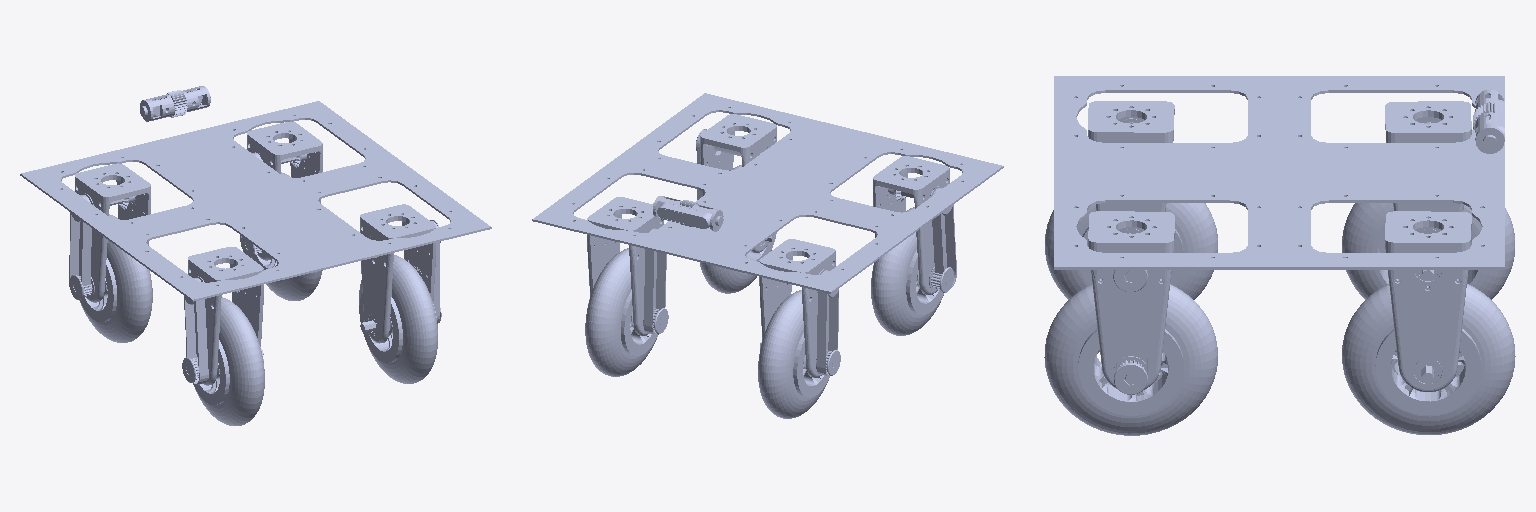
The robot description file, URDF, robot "Assem1.SLDASM":
<?xml version="1.0" encoding="utf-8"?>
<!-- This URDF was automatically created by SolidWorks to URDF Exporter! Originally created by [author] ([email redacted]) 
     Commit Version: 1.6.0-4-g7f85cfe  Build Version: 1.6.7995.38578
     For more information, please see http://wiki.ros.org/sw_urdf_exporter -->
<robot
  name="Assem1.SLDASM">
  <link
    name="base_link">
    <inertial>
      <origin
        xyz="-1.80122982527309E-05 0.00268113709179614 0.0437561412092237"
        rpy="0 0 0" />
      <mass
        value="5.83594079476047" />
      <inertia
        ixx="0.0262320570286846"
        ixy="2.82877643144792E-06"
        ixz="1.51090613026226E-09"
        iyy="0.0221066318668786"
        iyz="1.64817571323087E-09"
        izz="0.0463251880864419" />
    </inertial>
    <visual>
      <origin
        xyz="0 0 0"
        rpy="0 0 0" />
      <geometry>
        <mesh
          filename="package://Assem1.SLDASM/meshes/base_link.STL" />
      </geometry>
      <material
        name="">
        <color
          rgba="0.792156862745098 0.819607843137255 0.933333333333333 1" />
      </material>
    </visual>
    <collision>
      <origin
        xyz="0 0 0"
        rpy="0 0 0" />
      <geometry>
        <mesh
          filename="package://Assem1.SLDASM/meshes/base_link.STL" />
      </geometry>
    </collision>
  </link>
  <link
    name="Revolve1">
    <inertial>
      <origin
        xyz="-0.00203157253473932 -3.3257002236553E-06 -0.146515511784745"
        rpy="0 0 0" />
      <mass
        value="0.26996802034521" />
      <inertia
        ixx="0.000817081008544826"
        ixy="1.43755452488312E-06"
        ixz="5.94712654175265E-08"
        iyy="0.000962909407158132"
        iyz="1.19067342375248E-06"
        izz="0.000432508914878457" />
    </inertial>
    <visual>
      <origin
        xyz="0 0 0"
        rpy="0 0 0" />
      <geometry>
        <mesh
          filename="package://Assem1.SLDASM/meshes/Revolve1.STL" />
      </geometry>
      <material
        name="">
        <color
          rgba="0.792156862745098 0.819607843137255 0.933333333333333 1" />
      </material>
    </visual>
    <collision>
      <origin
        xyz="0 0 0"
        rpy="0 0 0" />
      <geometry>
        <mesh
          filename="package://Assem1.SLDASM/meshes/Revolve1.STL" />
      </geometry>
    </collision>
  </link>
  <joint
    name="Joint_Revolve1"
    type="continuous">
    <origin
      xyz="0.142934293002077 0.162809949770145 0.0808865217165859"
      rpy="0 0 0" />
    <parent
      link="base_link" />
    <child
      link="Revolve1" />
    <axis
      xyz="0 0 -1" />
    <limit
      lower="0"
      upper="0"
      effort="0"
      velocity="0" />
  </joint>
  <link
    name="Drive1">
    <inertial>
      <origin
        xyz="-0.0595900865520644 0.00103045575495944 0.000120396514376397"
        rpy="0 0 0" />
      <mass
        value="0.968781681350827" />
      <inertia
        ixx="0.00433308692834699"
        ixy="-1.99069564081483E-05"
        ixz="1.18928999632542E-07"
        iyy="0.0023145060676988"
        iyz="-8.12871262199869E-08"
        izz="0.00231372917988357" />
    </inertial>
    <visual>
      <origin
        xyz="0 0 0"
        rpy="0 0 0" />
      <geometry>
        <mesh
          filename="package://Assem1.SLDASM/meshes/Drive1.STL" />
      </geometry>
      <material
        name="">
        <color
          rgba="0.792156862745098 0.819607843137255 0.933333333333333 1" />
      </material>
    </visual>
    <collision>
      <origin
        xyz="0 0 0"
        rpy="0 0 0" />
      <geometry>
        <mesh
          filename="package://Assem1.SLDASM/meshes/Drive1.STL" />
      </geometry>
    </collision>
  </link>
  <joint
    name="Joint_Drive1"
    type="continuous">
    <origin
      xyz="0.0582113596874176 -0.000889147356134073 -0.237077064343304"
      rpy="0 0 0" />
    <parent
      link="Revolve1" />
    <child
      link="Drive1" />
    <axis
      xyz="-0.999951327239453 0.0098662633279638 0" />
    <limit
      lower="0"
      upper="0"
      effort="0"
      velocity="0" />
  </joint>
  <link
    name="Revolve2">
    <inertial>
      <origin
        xyz="0.00369564587521401 9.94381063517957E-05 -0.14554695452501"
        rpy="0 0 0" />
      <mass
        value="0.278169943270249" />
      <inertia
        ixx="0.000818393002551496"
        ixy="1.0906620321178E-06"
        ixz="-4.70925775856809E-08"
        iyy="0.000964158396336435"
        iyz="8.330325220129E-08"
        izz="0.000433636015059848" />
    </inertial>
    <visual>
      <origin
        xyz="0 0 0"
        rpy="0 0 0" />
      <geometry>
        <mesh
          filename="package://Assem1.SLDASM/meshes/Revolve2.STL" />
      </geometry>
      <material
        name="">
        <color
          rgba="0.792156862745098 0.819607843137255 0.933333333333333 1" />
      </material>
    </visual>
    <collision>
      <origin
        xyz="0 0 0"
        rpy="0 0 0" />
      <geometry>
        <mesh
          filename="package://Assem1.SLDASM/meshes/Revolve2.STL" />
      </geometry>
    </collision>
  </link>
  <joint
    name="Joint_Revolve2"
    type="continuous">
    <origin
      xyz="0.142366067810622 -0.162810625283319 0.0808865217165886"
      rpy="0 0 0" />
    <parent
      link="base_link" />
    <child
      link="Revolve2" />
    <axis
      xyz="0 0 -1" />
    <limit
      lower="0"
      upper="0"
      effort="0"
      velocity="0" />
  </joint>
  <link
    name="Drive2">
    <inertial>
      <origin
        xyz="-0.0604042563748639 1.00501994926006E-05 0.000120396499160763"
        rpy="0 0 0" />
      <mass
        value="0.968781685280358" />
      <inertia
        ixx="0.00433317009545423"
        ixy="-1.51130610426148E-05"
        ixz="-1.19121259095147E-07"
        iyy="0.00231442290382323"
        iyz="8.10046961055835E-08"
        izz="0.00231372918105276" />
    </inertial>
    <visual>
      <origin
        xyz="0 0 0"
        rpy="0 0 0" />
      <geometry>
        <mesh
          filename="package://Assem1.SLDASM/meshes/Drive2.STL" />
      </geometry>
      <material
        name="">
        <color
          rgba="0.792156862745098 0.819607843137255 0.933333333333333 1" />
      </material>
    </visual>
    <collision>
      <origin
        xyz="0 0 0"
        rpy="0 0 0" />
      <geometry>
        <mesh
          filename="package://Assem1.SLDASM/meshes/Drive2.STL" />
      </geometry>
    </collision>
  </link>
  <joint
    name="Joint_Drive2"
    type="continuous">
    <origin
      xyz="0.0617833347446545 -0.000148083201917115 -0.237077064343308"
      rpy="0 0 0" />
    <parent
      link="Revolve2" />
    <child
      link="Drive2" />
    <axis
      xyz="0.999971937783406 -0.00749157164416232 0" />
    <limit
      lower="0"
      upper="0"
      effort="0"
      velocity="0" />
  </joint>
  <link
    name="Revolve3">
    <inertial>
      <origin
        xyz="-0.145078348740283 0.000298264757163519 -0.00416215996009126"
        rpy="0 0 0" />
      <mass
        value="0.282156111545984" />
      <inertia
        ixx="0.000434125726646059"
        ixy="2.26740392878708E-06"
        ixz="2.46147953855087E-08"
        iyy="0.000964214819932212"
        iyz="-1.47963647126638E-06"
        izz="0.000818912285874927" />
    </inertial>
    <visual>
      <origin
        xyz="0 0 0"
        rpy="0 0 0" />
      <geometry>
        <mesh
          filename="package://Assem1.SLDASM/meshes/Revolve3.STL" />
      </geometry>
      <material
        name="">
        <color
          rgba="0.792156862745098 0.819607843137255 0.933333333333333 1" />
      </material>
    </visual>
    <collision>
      <origin
        xyz="0 0 0"
        rpy="0 0 0" />
      <geometry>
        <mesh
          filename="package://Assem1.SLDASM/meshes/Revolve3.STL" />
      </geometry>
    </collision>
  </link>
  <joint
    name="Joint_Revolve3"
    type="continuous">
    <origin
      xyz="-0.142934337601559 -0.162809870489869 0.0808865217165859"
      rpy="3.14159265358979 -1.5707963267949 0" />
    <parent
      link="base_link" />
    <child
      link="Revolve3" />
    <axis
      xyz="-1 0 0" />
    <limit
      lower="0"
      upper="0"
      effort="0"
      velocity="0" />
  </joint>
  <link
    name="Drive3">
    <inertial>
      <origin
        xyz="0.00012039651646828 0.000173152781060726 0.0604040240679212"
        rpy="0 0 0" />
      <mass
        value="0.968781680813742" />
      <inertia
        ixx="0.00231372917972381"
        ixy="8.13257654301477E-08"
        ixz="1.1890262017798E-07"
        iyy="0.00231451922820414"
        iyz="2.05633802827414E-05"
        izz="0.00433307376740015" />
    </inertial>
    <visual>
      <origin
        xyz="0 0 0"
        rpy="0 0 0" />
      <geometry>
        <mesh
          filename="package://Assem1.SLDASM/meshes/Drive3.STL" />
      </geometry>
      <material
        name="">
        <color
          rgba="0.792156862745098 0.819607843137255 0.933333333333333 1" />
      </material>
    </visual>
    <collision>
      <origin
        xyz="0 0 0"
        rpy="0 0 0" />
      <geometry>
        <mesh
          filename="package://Assem1.SLDASM/meshes/Drive3.STL" />
      </geometry>
    </collision>
  </link>
  <joint
    name="Joint_Drive3"
    type="continuous">
    <origin
      xyz="-0.237077064343304 -0.000314896345636445 -0.0617826975095977"
      rpy="0 0 0" />
    <parent
      link="Revolve3" />
    <child
      link="Drive3" />
    <axis
      xyz="0 -0.0101914398562096 -0.999948065928255" />
    <limit
      lower="0"
      upper="0"
      effort="0"
      velocity="0" />
  </joint>
  <link
    name="Revolve4">
    <inertial>
      <origin
        xyz="-0.00369447983778617 -5.57141729288224E-05 -0.145545341192344"
        rpy="0 0 0" />
      <mass
        value="0.278169949354846" />
      <inertia
        ixx="0.000818395728366805"
        ixy="-1.00119769955746E-06"
        ixz="4.24905936666421E-08"
        iyy="0.000964130017408441"
        iyz="8.9761506571256E-07"
        izz="0.000433670847908861" />
    </inertial>
    <visual>
      <origin
        xyz="0 0 0"
        rpy="0 0 0" />
      <geometry>
        <mesh
          filename="package://Assem1.SLDASM/meshes/Revolve4.STL" />
      </geometry>
      <material
        name="">
        <color
          rgba="0.792156862745098 0.819607843137255 0.933333333333333 1" />
      </material>
    </visual>
    <collision>
      <origin
        xyz="0 0 0"
        rpy="0 0 0" />
      <geometry>
        <mesh
          filename="package://Assem1.SLDASM/meshes/Revolve4.STL" />
      </geometry>
    </collision>
  </link>
  <joint
    name="Joint_Revolve4"
    type="continuous">
    <origin
      xyz="-0.14236842293664 0.162814683931788 0.0808865217165862"
      rpy="0 0 0" />
    <parent
      link="base_link" />
    <child
      link="Revolve4" />
    <axis
      xyz="0 0 -1" />
    <limit
      lower="0"
      upper="0"
      effort="0"
      velocity="0" />
  </joint>
  <link
    name="Drive4">
    <inertial>
      <origin
        xyz="-0.0622112205431674 4.79255844326731E-06 0.000114732036940929"
        rpy="0 0 0" />
      <mass
        value="0.850687527986547" />
      <inertia
        ixx="0.00415798393864942"
        ixy="1.31982957892881E-05"
        ixz="7.75917649713274E-08"
        iyy="0.00221684368675787"
        iyz="-2.11694871406755E-07"
        izz="0.00221655869094812" />
    </inertial>
    <visual>
      <origin
        xyz="0 0 0"
        rpy="0 0 0" />
      <geometry>
        <mesh
          filename="package://Assem1.SLDASM/meshes/Drive4.STL" />
      </geometry>
      <material
        name="">
        <color
          rgba="0.792156862745098 0.819607843137255 0.933333333333333 1" />
      </material>
    </visual>
    <collision>
      <origin
        xyz="0 0 0"
        rpy="0 0 0" />
      <geometry>
        <mesh
          filename="package://Assem1.SLDASM/meshes/Drive4.STL" />
      </geometry>
    </collision>
  </link>
  <joint
    name="Joint_Drive4"
    type="continuous">
    <origin
      xyz="0.0582180879812486 8.49204713872509E-05 -0.237077064343304"
      rpy="0 0 0" />
    <parent
      link="Revolve4" />
    <child
      link="Drive4" />
    <axis
      xyz="-0.999976432452814 -0.00686545984934792 0" />
    <limit
      lower="0"
      upper="0"
      effort="0"
      velocity="0" />
  </joint>
  <link
    name="Camera_pivot">
    <inertial>
      <origin
        xyz="-0.0555938677541015 -0.000242330848978831 -0.00329123732557138"
        rpy="0 0 0" />
      <mass
        value="1.28786623127725" />
      <inertia
        ixx="0.000117585603142808"
        ixy="7.73537803843833E-07"
        ixz="1.1315000572726E-05"
        iyy="0.00079491757869897"
        iyz="-6.69201512905299E-07"
        izz="0.000787867424546528" />
    </inertial>
    <visual>
      <origin
        xyz="0 0 0"
        rpy="0 0 0" />
      <geometry>
        <mesh
          filename="package://Assem1.SLDASM/meshes/Camera_pivot.STL" />
      </geometry>
      <material
        name="">
        <color
          rgba="0.792156862745098 0.819607843137255 0.933333333333333 1" />
      </material>
    </visual>
    <collision>
      <origin
        xyz="0 0 0"
        rpy="0 0 0" />
      <geometry>
        <mesh
          filename="package://Assem1.SLDASM/meshes/Camera_pivot.STL" />
      </geometry>
    </collision>
  </link>
  <joint
    name="Camera_pivot"
    type="revolute">
    <origin
      xyz="0.05435 0.23015 0.06"
      rpy="1.5708 0 0" />
    <parent
      link="base_link" />
    <child
      link="Camera_pivot" />
    <axis
      xyz="1 0 0" />
    <limit
      lower="0"
      upper="0"
      effort="0"
      velocity="0" />
  </joint>
</robot>

--- What the picture shows (computed from the rendered views, not written in the file) ---
The picture shows the robot from 3 angles, left to right: view 1: azimuth 30°, elevation 25°; view 2: azimuth 150°, elevation 25°; view 3: azimuth 270°, elevation 25°; orthographic projection.
Model Assem1.SLDASM with 10 links and 9 joints (1 revolute, 8 continuous), rooted at base_link, posed all joints at 0.
Links seen in each view (by area): view 1: base_link, Drive2, Drive3, Revolve3, Revolve2, Revolve4, Drive4, Revolve1, Camera_pivot, Drive1; view 2: base_link, Drive1, Drive4, Revolve4, Revolve1, Revolve3, Drive3, Revolve2, Camera_pivot, Drive2; view 3: base_link, Drive2, Drive1, Revolve1, Revolve2, Drive3, Drive4, Revolve3, Revolve4, Camera_pivot.
Boxes of the visible links, x1=… form: base_link: x1=20, y1=101, x2=491, y2=301; Drive2: x1=359, y1=255, x2=441, y2=383; Drive3: x1=182, y1=297, x2=264, y2=425; Revolve3: x1=184, y1=247, x2=263, y2=385; Revolve2: x1=360, y1=204, x2=440, y2=343; Revolve4: x1=69, y1=163, x2=150, y2=302; Drive4: x1=69, y1=214, x2=152, y2=342; Revolve1: x1=240, y1=122, x2=322, y2=260; Camera_pivot: x1=140, y1=86, x2=210, y2=121; Drive1: x1=241, y1=172, x2=322, y2=300; base_link: x1=532, y1=93, x2=1003, y2=293; Drive1: x1=585, y1=248, x2=668, y2=376; Drive4: x1=758, y1=290, x2=840, y2=418; Revolve4: x1=759, y1=239, x2=838, y2=377; Revolve1: x1=587, y1=197, x2=666, y2=335; Revolve3: x1=873, y1=156, x2=956, y2=294; Drive3: x1=871, y1=207, x2=953, y2=335; Revolve2: x1=696, y1=114, x2=776, y2=252; Camera_pivot: x1=653, y1=196, x2=723, y2=231; Drive2: x1=700, y1=165, x2=776, y2=293; base_link: x1=1054, y1=76, x2=1504, y2=269; Drive2: x1=1044, y1=284, x2=1217, y2=435; Drive1: x1=1342, y1=284, x2=1515, y2=434; Revolve1: x1=1385, y1=211, x2=1471, y2=391; Revolve2: x1=1088, y1=211, x2=1174, y2=389; Drive3: x1=1045, y1=203, x2=1217, y2=299; Drive4: x1=1342, y1=203, x2=1514, y2=299; Revolve3: x1=1088, y1=101, x2=1174, y2=211; Revolve4: x1=1385, y1=101, x2=1471, y2=211; Camera_pivot: x1=1473, y1=89, x2=1504, y2=153.
Size in the robot's own frame: 0.4953 by 0.5162 by 0.3296 metres.
10 mesh visuals loaded from 10 distinct referenced files (10 binary STL).